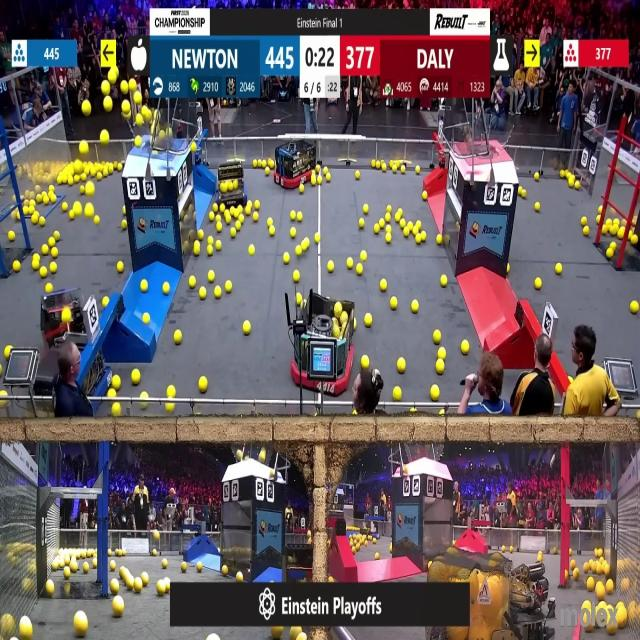ball_airborne: (61, 307, 72, 324), (108, 68, 117, 83), (104, 98, 113, 112), (82, 101, 90, 116), (79, 141, 88, 154), (102, 83, 110, 97), (101, 131, 109, 145), (120, 80, 128, 92), (122, 101, 130, 113), (134, 93, 142, 104), (136, 114, 144, 125), (130, 79, 137, 91), (259, 450, 265, 463), (135, 137, 142, 148), (237, 450, 243, 460), (142, 106, 148, 115), (160, 132, 166, 140), (168, 130, 173, 139), (190, 143, 195, 151)
ball_ground: (74, 614, 87, 638), (21, 618, 33, 640), (112, 597, 124, 617), (617, 610, 628, 630), (596, 585, 606, 600), (430, 385, 439, 400), (606, 623, 616, 636), (110, 581, 119, 595), (159, 582, 168, 596), (112, 376, 120, 391), (438, 359, 446, 374), (45, 582, 53, 597), (200, 378, 208, 392), (393, 386, 401, 400), (461, 341, 469, 355), (112, 404, 120, 418), (243, 320, 251, 334), (432, 332, 440, 346), (396, 358, 404, 372), (133, 371, 141, 385), (126, 576, 134, 590), (134, 581, 143, 593), (412, 301, 420, 314), (174, 332, 182, 345), (605, 582, 613, 595), (74, 202, 82, 215), (630, 302, 638, 314), (224, 281, 232, 293), (214, 286, 222, 298), (86, 205, 94, 217), (141, 573, 149, 585), (364, 314, 371, 327), (588, 579, 595, 592), (4, 347, 11, 360), (439, 348, 447, 359), (32, 261, 40, 272), (87, 184, 95, 195), (631, 236, 639, 247), (556, 264, 563, 276), (534, 278, 541, 290), (361, 356, 368, 368), (200, 287, 207, 299), (164, 282, 171, 294), (168, 386, 175, 398), (188, 276, 195, 288), (390, 296, 397, 308), (12, 262, 19, 274), (141, 280, 148, 292), (603, 564, 610, 576), (420, 234, 428, 244), (347, 257, 354, 268), (116, 263, 123, 274), (292, 272, 299, 283), (40, 268, 47, 279), (183, 562, 190, 573), (619, 228, 626, 239), (381, 280, 387, 292), (360, 250, 366, 262), (143, 313, 149, 325), (193, 243, 199, 255), (49, 264, 56, 274), (402, 229, 409, 239), (207, 246, 214, 256), (102, 296, 109, 306), (237, 571, 244, 581), (606, 249, 613, 259), (435, 236, 442, 246), (108, 388, 115, 398), (198, 231, 205, 241), (571, 568, 578, 578), (232, 208, 239, 218), (208, 272, 214, 283), (284, 252, 290, 263), (442, 276, 448, 287), (295, 293, 301, 304), (356, 265, 362, 276), (221, 565, 227, 576), (64, 567, 70, 578), (198, 562, 204, 573), (304, 240, 310, 251), (82, 563, 88, 574), (568, 177, 574, 188), (167, 402, 174, 411), (270, 226, 277, 235), (584, 600, 591, 609), (327, 263, 333, 273), (248, 245, 254, 255), (315, 234, 321, 244), (42, 245, 48, 255), (50, 248, 56, 258), (290, 229, 296, 239), (252, 212, 258, 222), (215, 242, 221, 252), (55, 232, 61, 242), (295, 246, 301, 256), (32, 214, 38, 224), (584, 226, 590, 236), (416, 220, 422, 230), (358, 218, 364, 228), (422, 190, 428, 200), (372, 223, 378, 233), (416, 235, 422, 245), (312, 176, 318, 186), (290, 211, 296, 221), (110, 561, 116, 571), (588, 624, 594, 634), (33, 195, 39, 205), (599, 601, 606, 609), (362, 205, 368, 214), (8, 233, 14, 242), (386, 235, 392, 244), (209, 212, 215, 221), (386, 223, 392, 232), (231, 230, 237, 239), (298, 184, 304, 193), (601, 225, 607, 234), (399, 219, 405, 228), (119, 567, 125, 576), (239, 206, 245, 215), (579, 217, 585, 226), (43, 197, 49, 206), (68, 177, 74, 186), (24, 207, 30, 216), (237, 220, 242, 230), (79, 185, 84, 195), (381, 218, 386, 228), (585, 563, 590, 573), (140, 401, 147, 408), (94, 216, 100, 224), (45, 284, 51, 292), (208, 237, 214, 245), (62, 204, 68, 212), (216, 222, 222, 230), (266, 168, 272, 176), (534, 173, 540, 181), (48, 239, 54, 247), (609, 242, 615, 250), (93, 560, 99, 568), (239, 214, 245, 222), (386, 205, 392, 213), (408, 220, 414, 228), (397, 208, 403, 216), (74, 175, 80, 183), (164, 560, 169, 569), (534, 203, 539, 212), (296, 212, 301, 221), (39, 217, 44, 226), (385, 214, 390, 223), (574, 181, 579, 190), (247, 201, 252, 210), (0, 398, 5, 407), (596, 216, 602, 223), (322, 168, 328, 175), (325, 175, 331, 182), (212, 205, 218, 212), (316, 166, 322, 173), (141, 392, 148, 398), (382, 166, 388, 173), (252, 161, 258, 168), (598, 207, 604, 214), (269, 217, 274, 225), (254, 202, 259, 210), (70, 210, 74, 220), (121, 220, 126, 228), (400, 167, 405, 175), (570, 560, 575, 568), (522, 189, 527, 197), (215, 214, 220, 222), (50, 194, 55, 202), (225, 215, 230, 223), (395, 214, 400, 222), (48, 184, 53, 192), (564, 568, 569, 576), (370, 161, 375, 169), (537, 554, 542, 562), (0, 364, 4, 374), (269, 160, 274, 168), (584, 616, 589, 624), (356, 171, 360, 180), (0, 390, 6, 396), (416, 168, 421, 175), (376, 554, 381, 561), (392, 167, 397, 174), (328, 576, 333, 583), (121, 207, 125, 215), (560, 171, 564, 179), (98, 172, 102, 180), (220, 205, 224, 212), (108, 550, 112, 557), (568, 550, 572, 557), (506, 266, 509, 275), (441, 411, 445, 417), (152, 551, 156, 557), (353, 412, 357, 418), (387, 546, 390, 554), (554, 547, 558, 553)
goal: (461, 118, 516, 158), (129, 115, 185, 154)
robot_blue: (220, 157, 248, 207)
robot_red: (290, 299, 359, 396), (506, 558, 558, 640), (273, 140, 317, 190), (40, 289, 75, 342)
